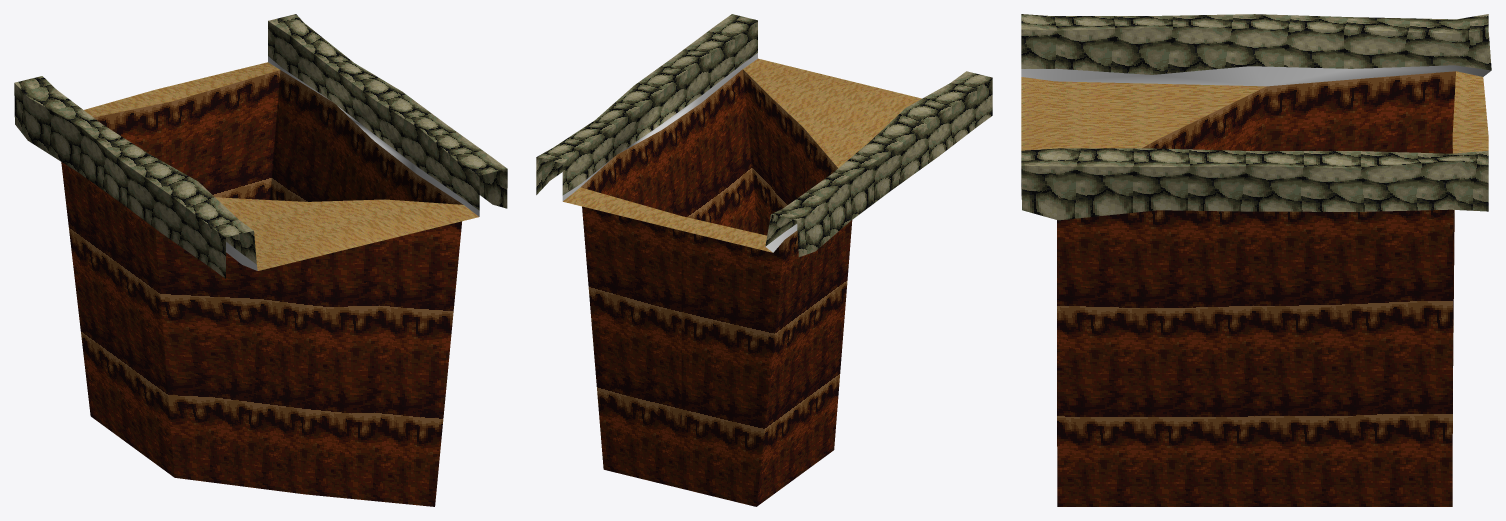
The picture shows the model from 3 angles, left to right: view 1: azimuth 30°, elevation 25°; view 2: azimuth 150°, elevation 25°; view 3: azimuth 270°, elevation 25°; orthographic projection. The views are drawn at different scales.
Visible parts, largest first — view 1: tv_t2b0e0v8; view 2: tv_t2b0e0v8; view 3: tv_t2b0e0v8.
Part boxes in pixels (x1,y1,x2,y2): tv_t2b0e0v8: (14, 14, 507, 506); tv_t2b0e0v8: (536, 14, 992, 506); tv_t2b0e0v8: (1021, 14, 1491, 506).
Size of what is drawn, in the model's own units: 10.23 by 13.09 by 11.53.
